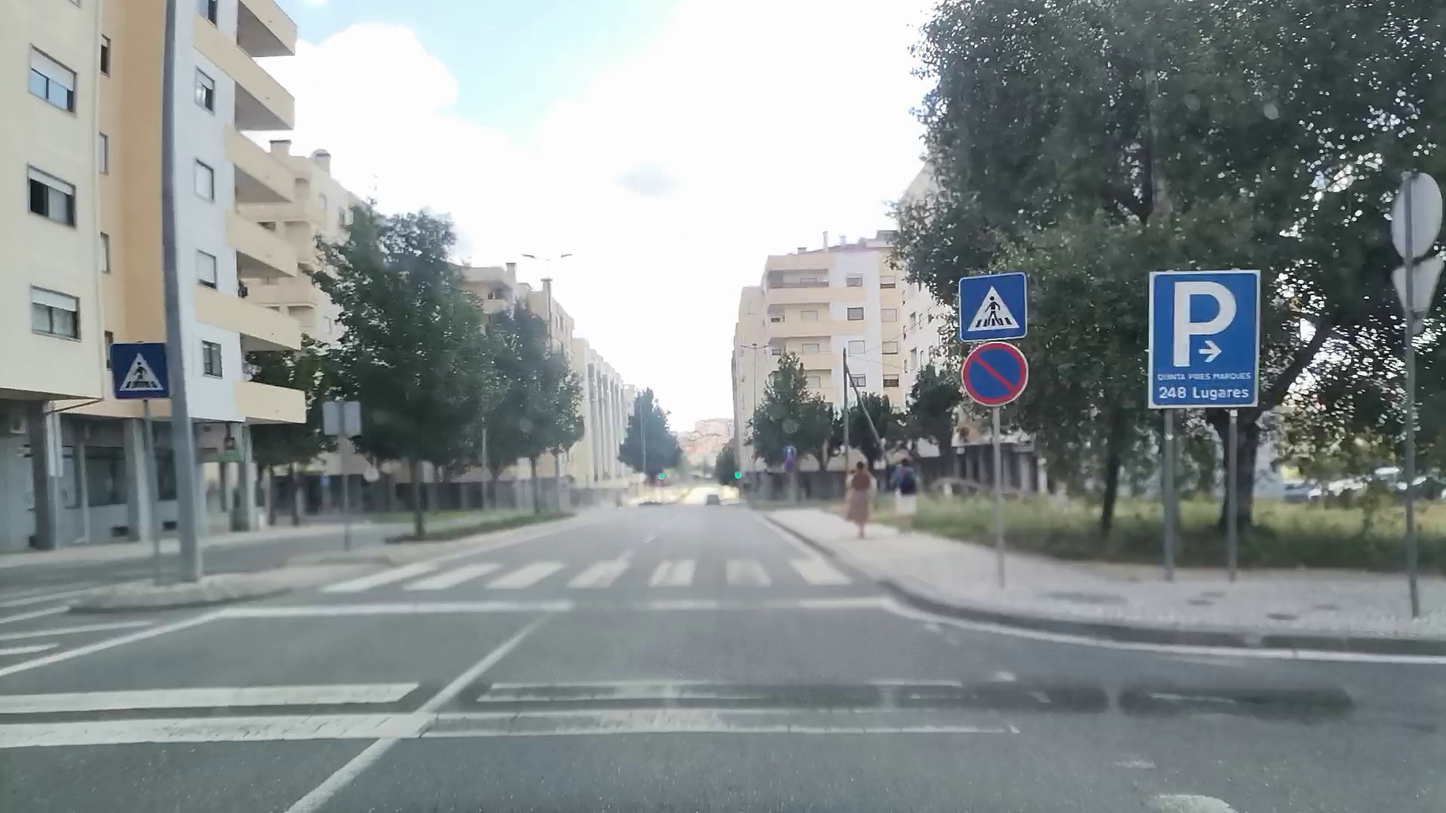Stairs: (323, 556, 851, 596)
